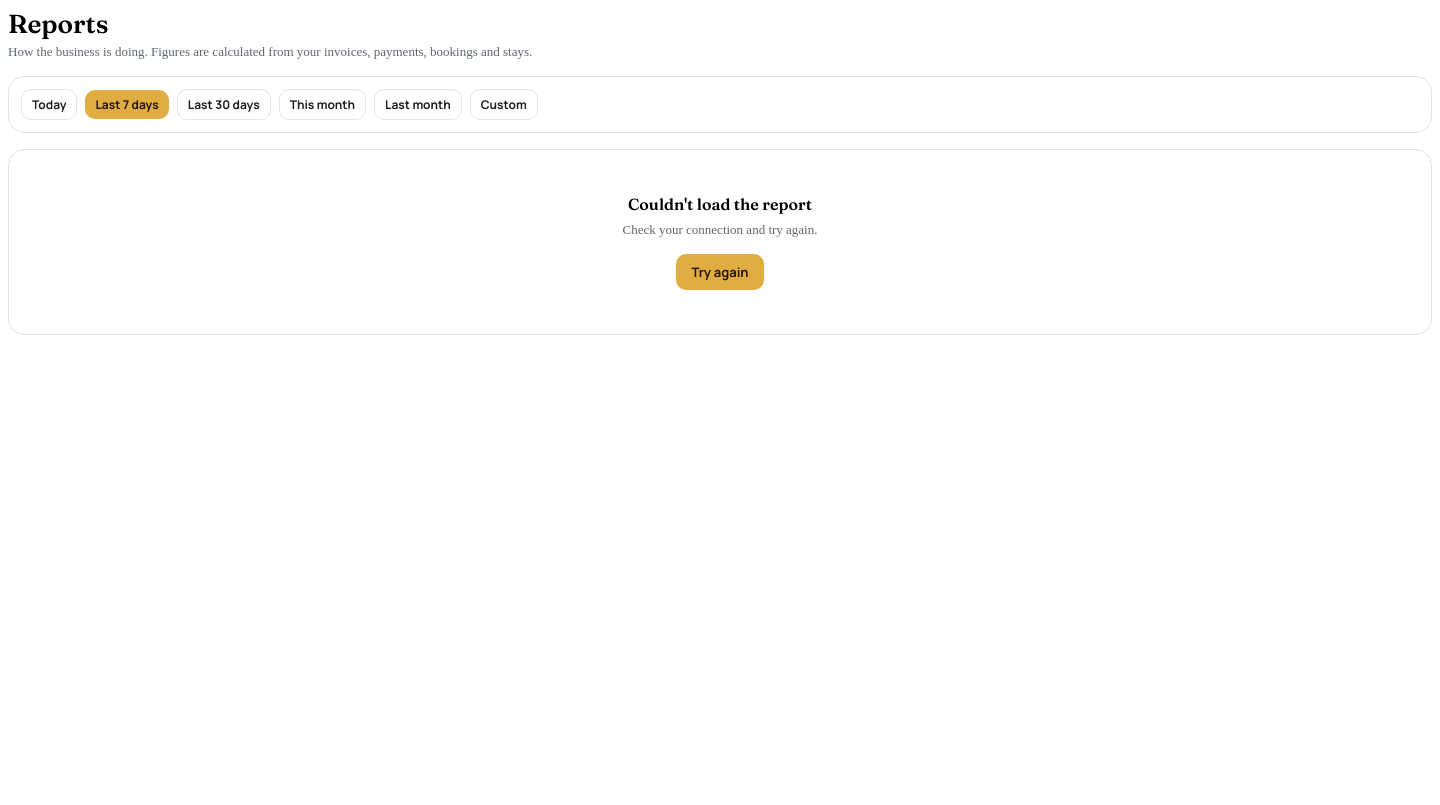
Test: ReportsPage › shows an error with retry, never zeros, when a request fails
Expected: the text "Couldn't load the report" is shown, x1=628 y1=194 x2=812 y2=214
Expected: the text "Collected" is not shown
Click the button "Try again": (720, 272) x1=676 y1=254 x2=764 y2=290
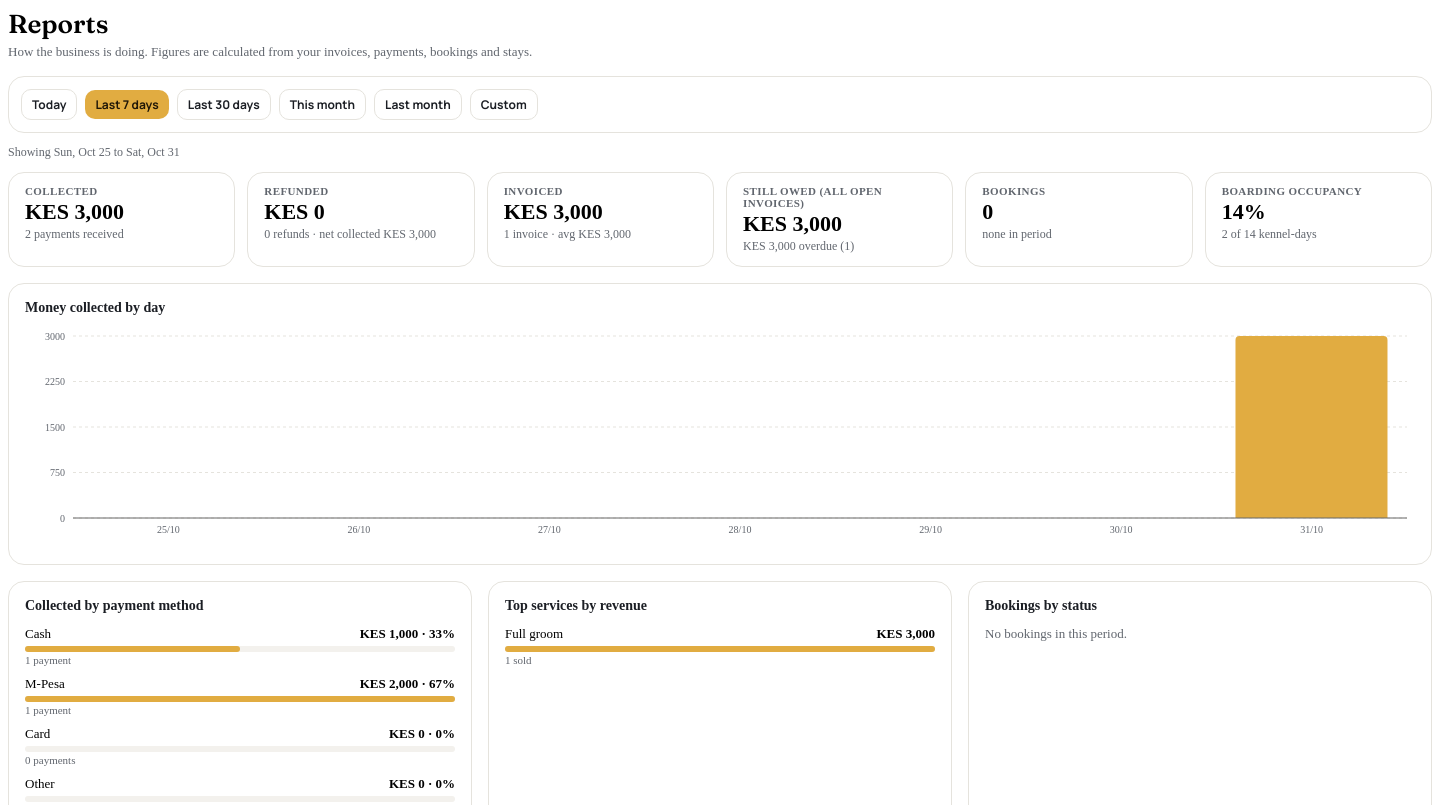
Now the text "Collected" is shown, box x1=25 y1=185 x2=98 y2=197
